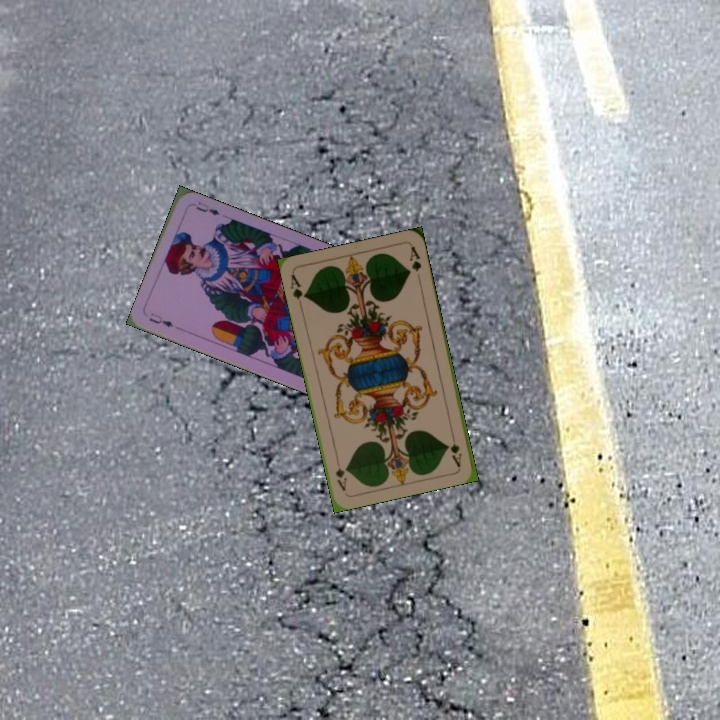EU: (145, 309, 176, 330)
GA: (286, 270, 309, 311), (446, 428, 464, 469)
